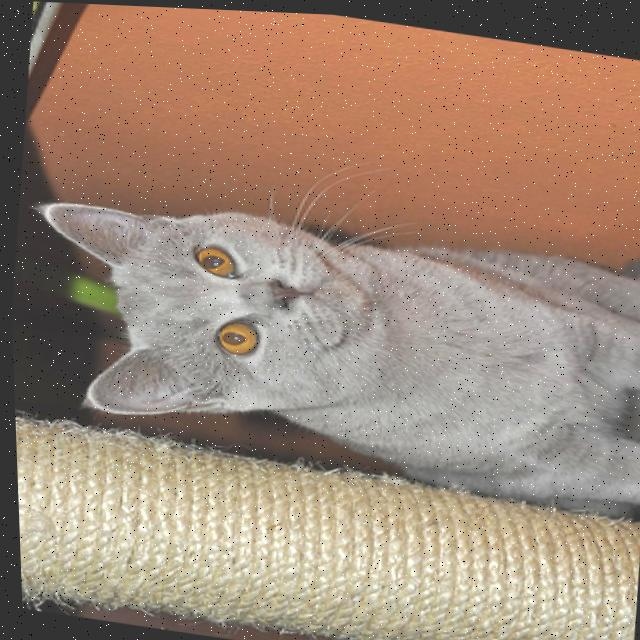British Shorthair: (11, 174, 640, 517)
